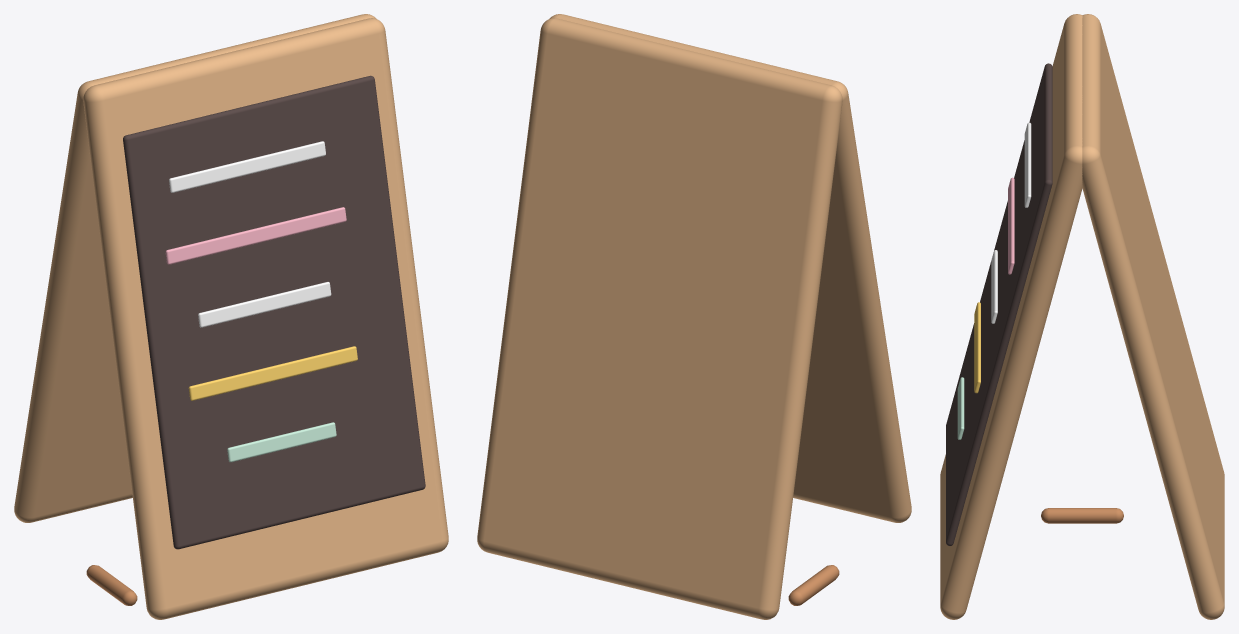
File: menu_board.glb
The picture shows the model from 3 angles, left to right: view 1: azimuth 30°, elevation 25°; view 2: azimuth 150°, elevation 25°; view 3: azimuth 270°, elevation 25°; orthographic projection. The views are drawn at different scales.
Parts seen in each view (by area): view 1: MenuBoard; view 2: MenuBoard; view 3: MenuBoard.
Part boxes in pixels (x1,y1,x2,y2): MenuBoard: (14, 14, 448, 619); MenuBoard: (477, 14, 911, 619); MenuBoard: (940, 14, 1224, 619).
Bounding box in the file's own units: 0.5 × 0.8207 × 0.4239.
